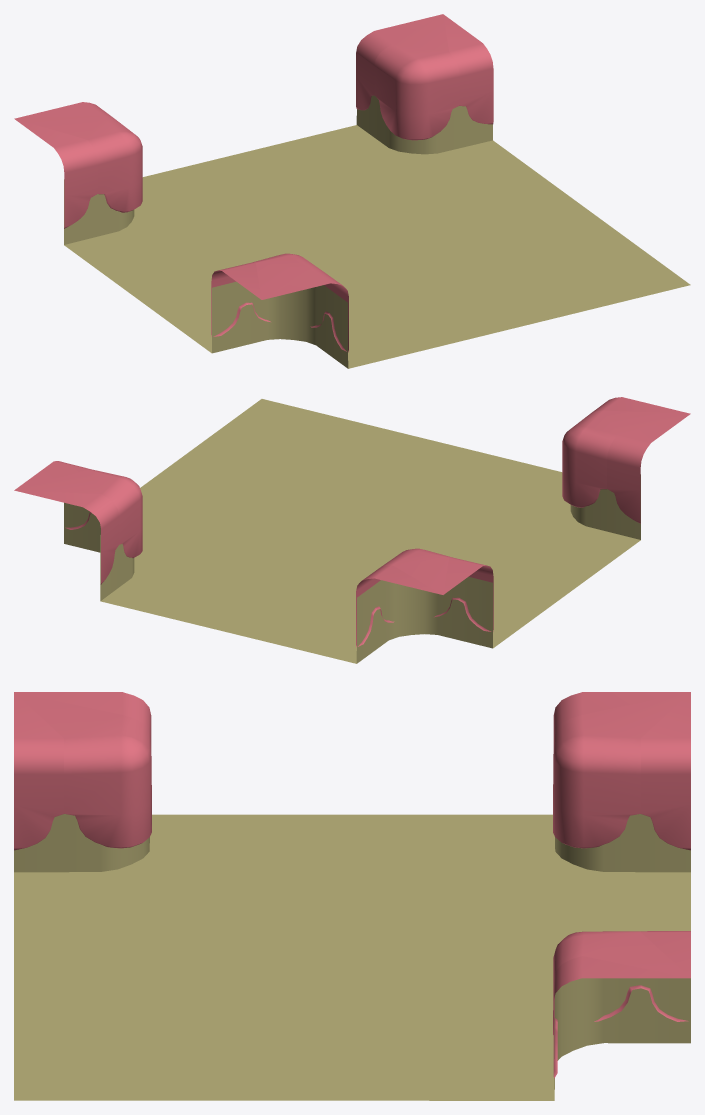
File: SM_Tile_Tips_L.fbx
The picture shows the model from 3 angles, top to bottom: view 1: azimuth 30°, elevation 25°; view 2: azimuth 150°, elevation 25°; view 3: azimuth 270°, elevation 25°; orthographic projection. The views are drawn at different scales.
Parts seen in each view (by area): view 1: SM_Tile_Tips_L; view 2: SM_Tile_Tips_L; view 3: SM_Tile_Tips_L.
Part boxes in pixels (bbox=[...]): SM_Tile_Tips_L: bbox=[14, 14, 690, 368]; SM_Tile_Tips_L: bbox=[14, 397, 690, 663]; SM_Tile_Tips_L: bbox=[14, 692, 690, 1100].
Size of the model in its own units: 100 by 20 by 100.
